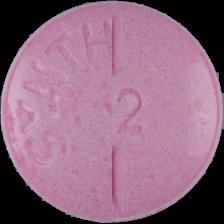0074-9296: (0, 0, 224, 224)
